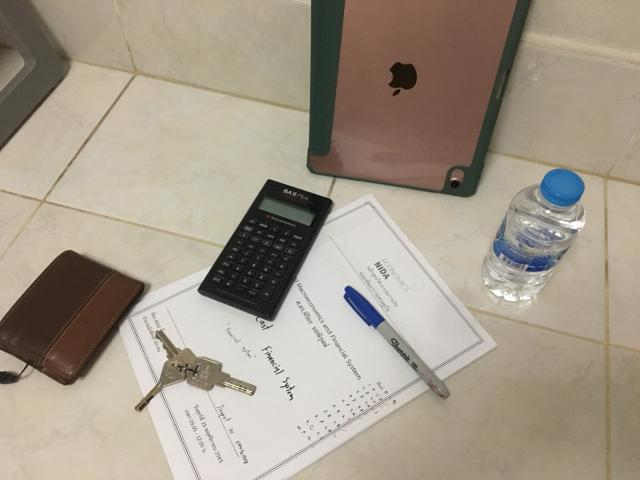Keys: (135, 330, 256, 410)
Pen: (344, 286, 450, 398)
Wallet: (0, 250, 144, 385)
bottle: (482, 170, 585, 301)
paper: (120, 195, 495, 479)
